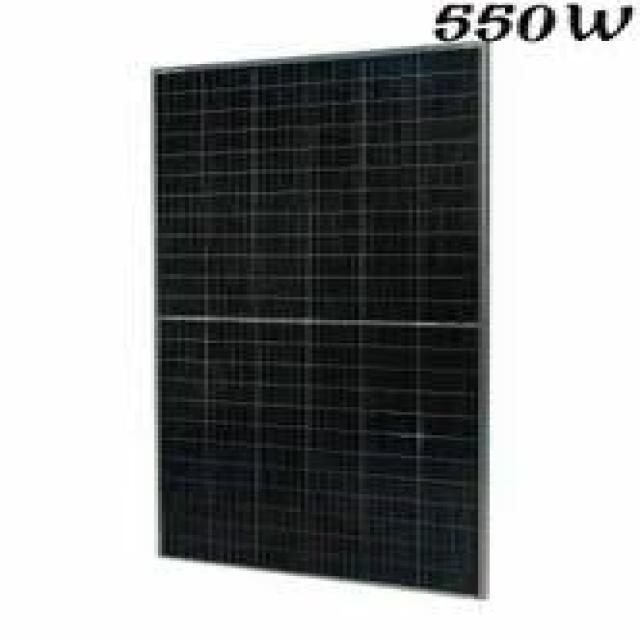Solar: (134, 45, 514, 598)
